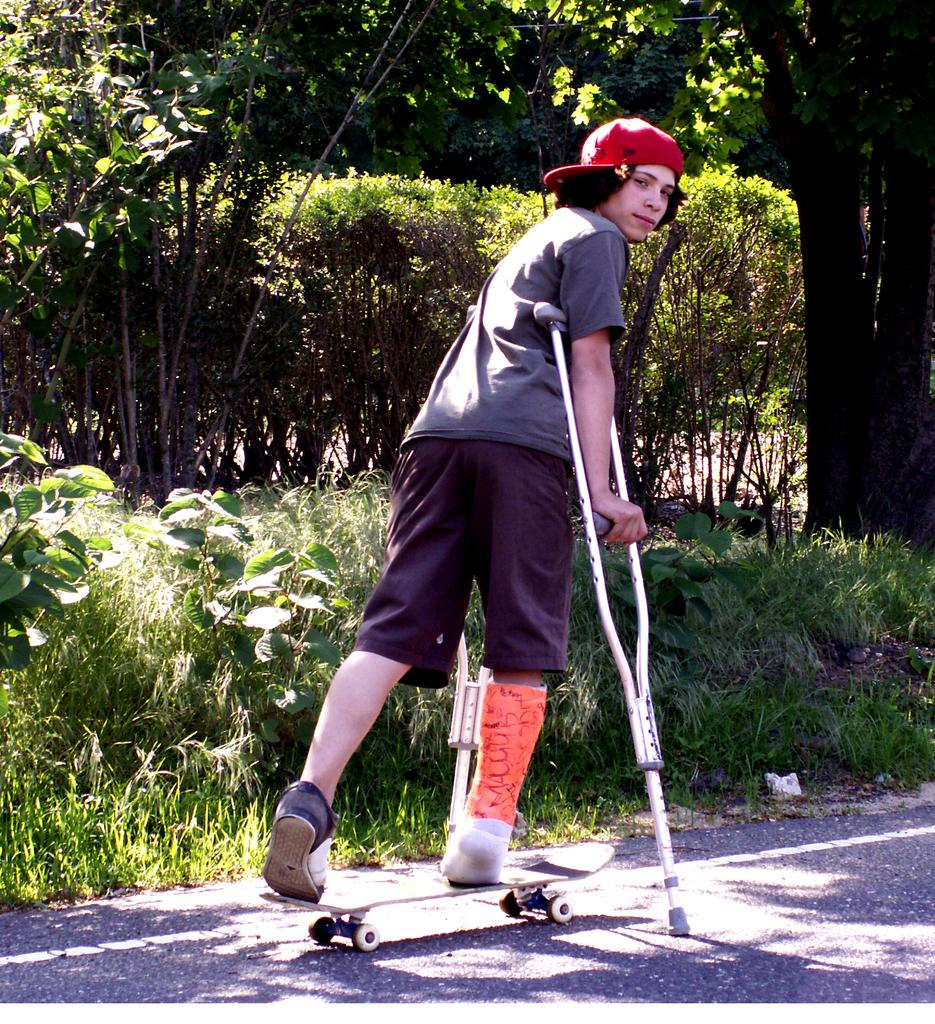crutches: (252, 106, 704, 959)
